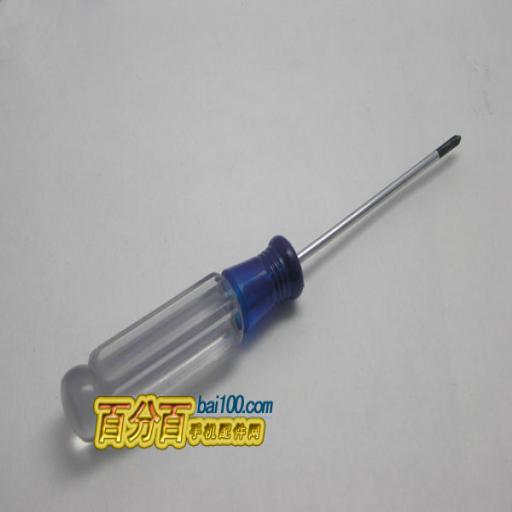screwdriver: (60, 135, 462, 444)
